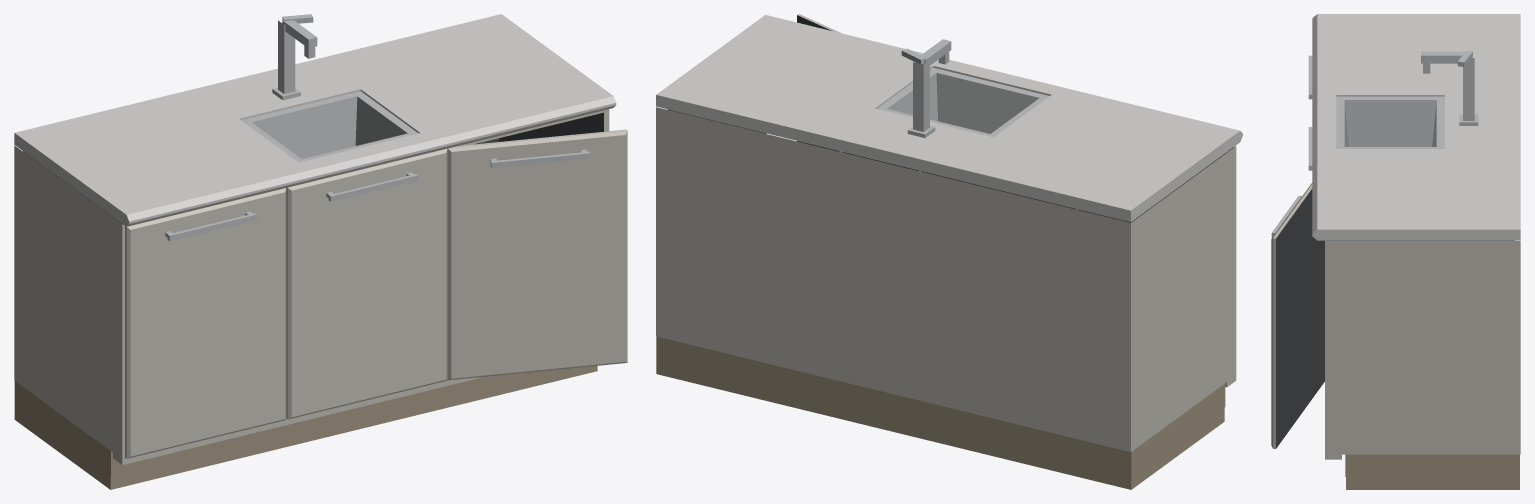
Rendered from kitchen.glb.
The picture shows the model from 3 angles, left to right: view 1: azimuth 30°, elevation 25°; view 2: azimuth 150°, elevation 25°; view 3: azimuth 270°, elevation 25°; orthographic projection. The views are drawn at different scales.
Parts seen in each view (by area): view 1: counter, door-3-panel, door-1-panel, door-2-panel, tap-mesh; view 2: counter, tap-mesh; view 3: counter, door-3-panel, tap-mesh.
Part boxes in pixels (box(x1,y1,x2,y2)): counter: box(14, 14, 616, 489); door-3-panel: box(447, 129, 627, 380); door-1-panel: box(125, 188, 286, 458); door-2-panel: box(286, 148, 447, 419); tap-mesh: box(272, 14, 317, 100); counter: box(656, 15, 1242, 489); tap-mesh: box(901, 39, 951, 137); counter: box(1312, 14, 1520, 489); door-3-panel: box(1271, 183, 1324, 448); tap-mesh: box(1421, 50, 1478, 125).
Bounding box in the file's own units: 1.6 × 1.14 × 0.7822.
